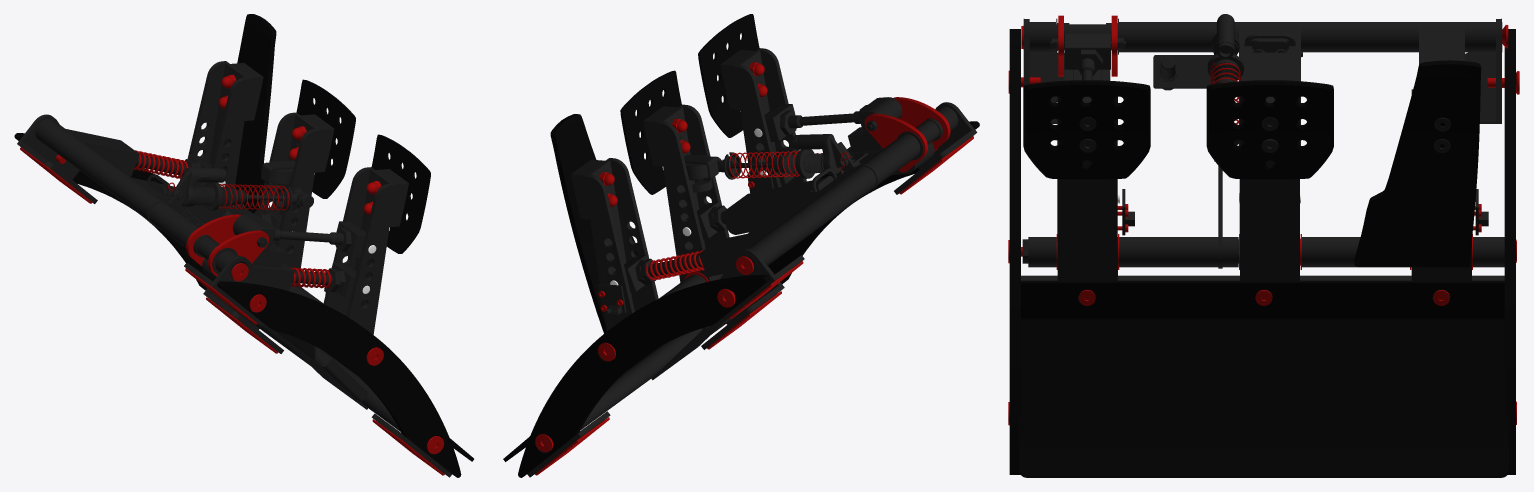
The model's file is pedal_a.glb.
3 renders of one model, left to right at view 1: azimuth 30°, elevation 25°; view 2: azimuth 150°, elevation 25°; view 3: azimuth 270°, elevation 25°, orthographic. The views are drawn at different scales.
Visible parts, largest first — view 1: pedal_a; view 2: pedal_a; view 3: pedal_a.
Part boxes in pixels (box(x1,y1,x2,y2)): pedal_a: box(14, 14, 473, 477); pedal_a: box(503, 14, 979, 477); pedal_a: box(1008, 14, 1519, 477).
Bounding box in the file's own units: 2.45e-05 × 2.98e-05 × 3.39e-05.
